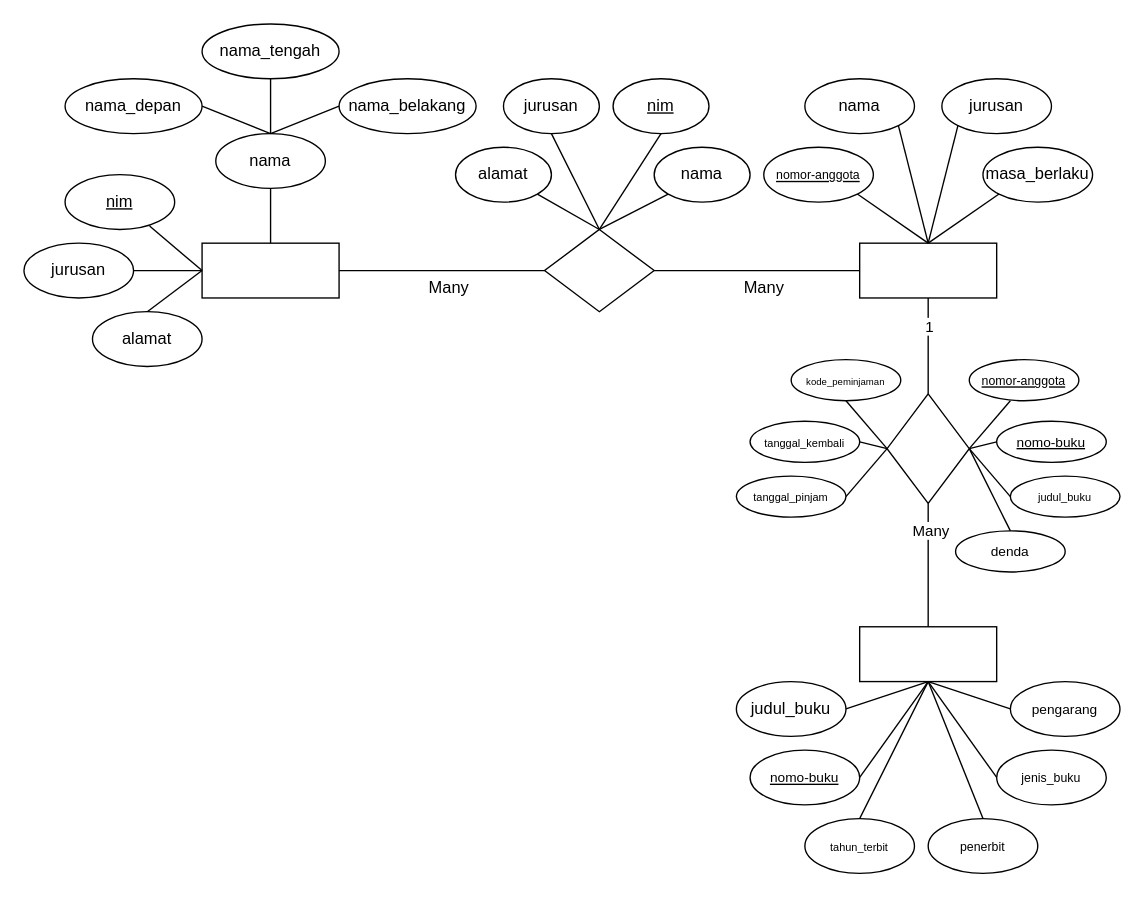
This 1144x897 diagram has some shape labels left out. The shapes that lost their labels are listed below. From the top down, each one's box as (x1, y1, x2, y2) in pixels, then its label:
(201, 242, 339, 298): mahasiswa
(543, 228, 654, 312): mendaftar
(858, 242, 997, 298): Anggota Perpustakaan
(886, 393, 969, 503): meminjam
(858, 625, 997, 682): Buku
